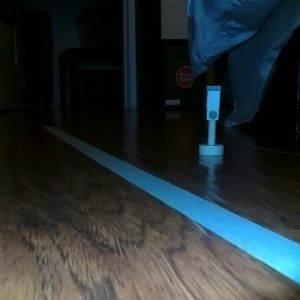traffic light green: (196, 83, 225, 159)
